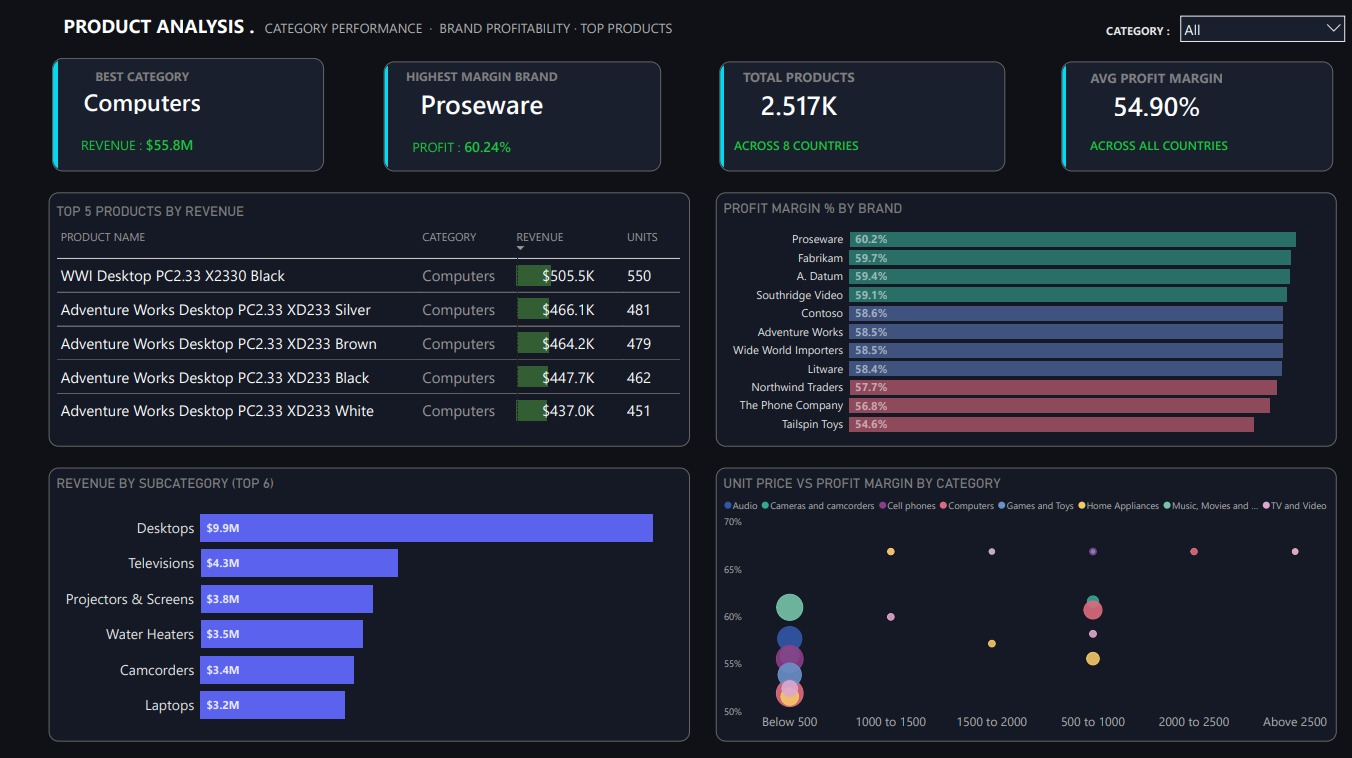

What the dashboard file says about the page in this screenshot:
{"tool":"powerbi","page":{"name":"Product analysis","canvas":[1920,1080],"ordinal":1},"visuals":[{"type":"tableEx","title":"TOP 5 PRODUCTS BY REVENUE","fields":{"Values":["products.Product_Name","products.Category","_Measures.Total Revenue","Sum(sales.Quantity)"]},"box":[67.9,275,910.7,360.7],"z":0},{"type":"scatterChart","title":"UNIT PRICE VS PROFIT MARGIN BY CATEGORY","fields":{"Y":["_Measures.profit margin pct"],"Series":["products.Category"],"Size":["_Measures.Total Orders"],"X":["products.Price bucket"]},"box":[1016.1,666.1,882.1,389.3],"z":1000},{"type":"clusteredBarChart","title":"REVENUE BY SUBCATEGORY (TOP 6)","fields":{"Category":["products.Subcategory"],"Y":["_Measures.Total Revenue"]},"box":[67.9,666.1,910.7,389.3],"z":2000},{"type":"cardVisual","fields":{"Data":["_Measures.Best category"]},"box":[67.9,83.9,396.4,166.1],"z":3000},{"type":"cardVisual","fields":{"Data":["_Measures.Highest margin brand"]},"box":[539.3,83.9,403.6,166.1],"z":4000},{"type":"cardVisual","fields":{"Data":["_Measures.Total products"]},"box":[1016.1,83.9,416.1,166.1],"z":5000},{"type":"cardVisual","fields":{"Data":["_Measures.Average Profit Margin %"]},"box":[1501.8,83.9,396.4,166.1],"z":6000},{"type":"clusteredBarChart","title":"PROFIT MARGIN % BY BRAND","fields":{"Y":["_Measures.profit margin pct"],"Category":["products.Brand"]},"box":[1016.1,275,882.1,360.7],"z":7000},{"type":"slicer","fields":{"Values":["products.Category"]},"box":[1666.1,14.3,253.6,69.6],"z":8000},{"type":"textbox","box":[1489.3,28.6,176.8,42.9],"z":9000},{"type":"textbox","box":[83.9,14.3,994.6,57.1],"z":10000}]}

Visuals, with their boxes in screenshot pixels (x1, y1, x2, y2), scaled from the page's 1920x1080 canvas onto the 1352x758 screenshot:
"TOP 5 PRODUCTS BY REVENUE" tableEx: 48, 193, 689, 446
"UNIT PRICE VS PROFIT MARGIN BY CATEGORY" scatterChart: 716, 468, 1337, 741
"REVENUE BY SUBCATEGORY (TOP 6)" clusteredBarChart: 48, 468, 689, 741
cardVisual - _Measures.Best category: 48, 59, 327, 175
cardVisual - _Measures.Highest margin brand: 380, 59, 664, 175
cardVisual - _Measures.Total products: 716, 59, 1009, 175
cardVisual - _Measures.Average Profit Margin %: 1058, 59, 1337, 175
"PROFIT MARGIN % BY BRAND" clusteredBarChart: 716, 193, 1337, 446
slicer - products.Category: 1173, 10, 1351, 59
textbox: 1049, 20, 1173, 50
textbox: 59, 10, 759, 50
